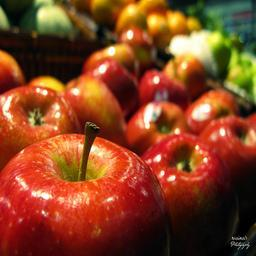apple: (1, 132, 171, 255), (142, 134, 244, 251), (1, 85, 77, 169)
